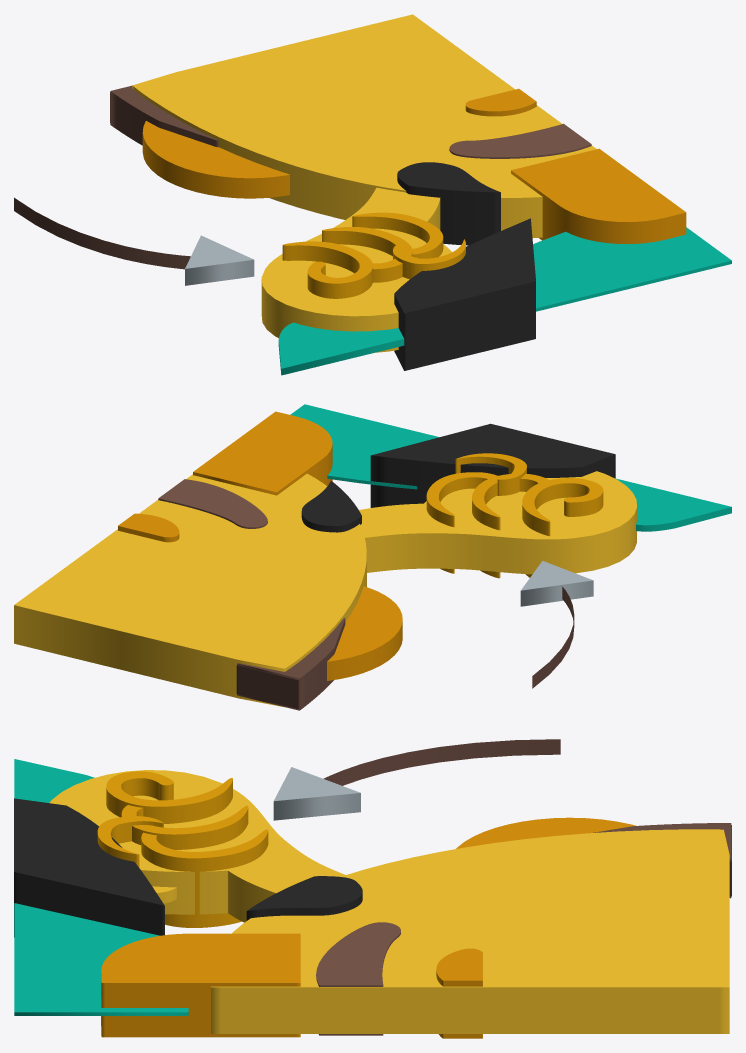
Rendered from emoji_u1f9cf_200d_2642.glb.
The picture shows the model from 3 angles, top to bottom: view 1: azimuth 30°, elevation 25°; view 2: azimuth 150°, elevation 25°; view 3: azimuth 270°, elevation 25°; orthographic projection. The views are drawn at different scales.
Parts seen in each view (by area): view 1: emoji_u1f9cf_200d_2642; view 2: emoji_u1f9cf_200d_2642; view 3: emoji_u1f9cf_200d_2642.
Boxes of the visible parts, bbox=[...] form: emoji_u1f9cf_200d_2642: bbox=[14, 14, 731, 375]; emoji_u1f9cf_200d_2642: bbox=[14, 404, 731, 710]; emoji_u1f9cf_200d_2642: bbox=[14, 739, 731, 1038].
Bounding box in the file's own units: 0.0296 × 0.0042 × 0.0336.
